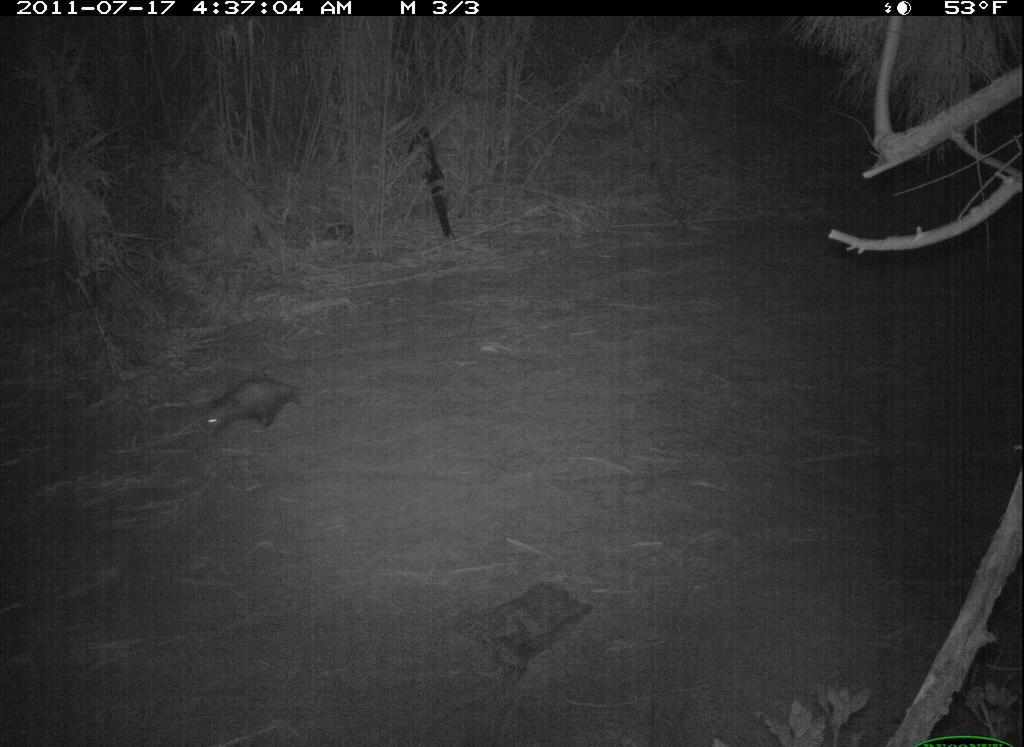opossum: (195, 377, 329, 457)
